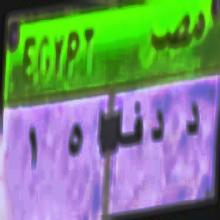1: (26, 115, 40, 174)
5: (68, 118, 83, 163)
daal: (181, 92, 201, 146), (149, 100, 167, 149)
faa: (113, 99, 143, 151)
